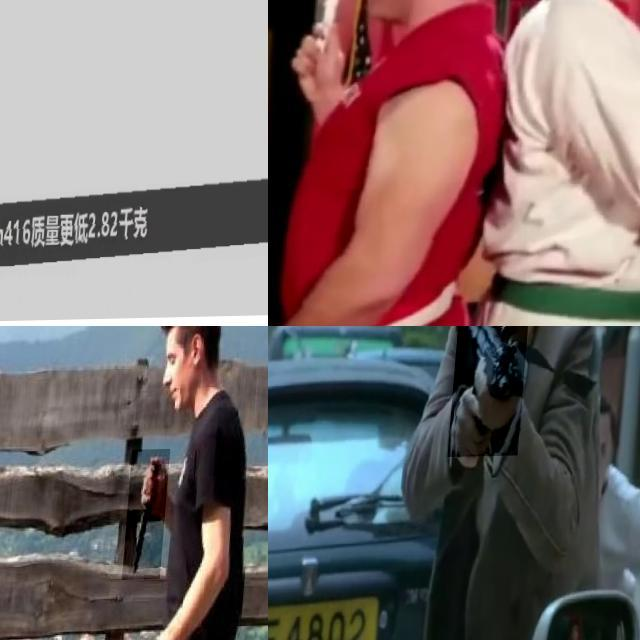-: (289, 0, 361, 104), (128, 452, 174, 582)
gun-knife-thesis - v11 Yolov5 augmented: (0, 0, 268, 326), (453, 326, 533, 458)
